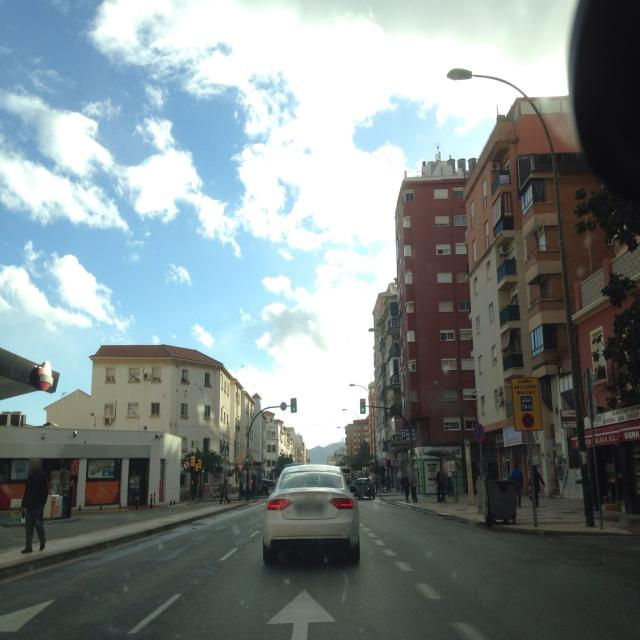forb_stopping: (473, 422, 484, 443)
forb_waiting: (521, 412, 534, 429)
